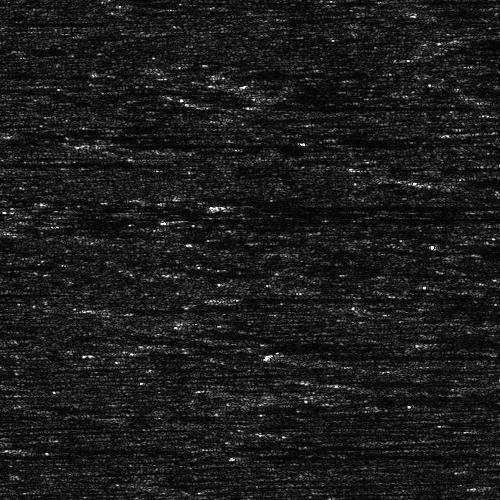rock: (369, 175, 484, 186), (227, 204, 248, 207)
shadow: (427, 175, 500, 186), (238, 204, 500, 207), (189, 216, 257, 219), (189, 223, 257, 226)
